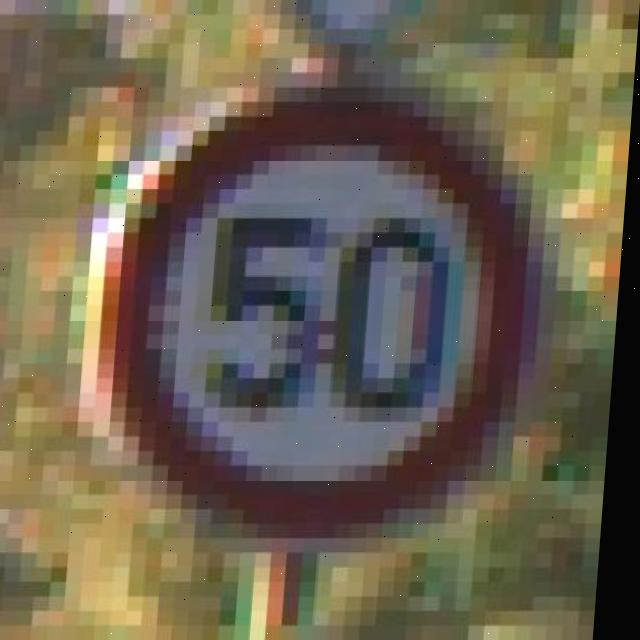Speed limit 50: (111, 95, 546, 533)
